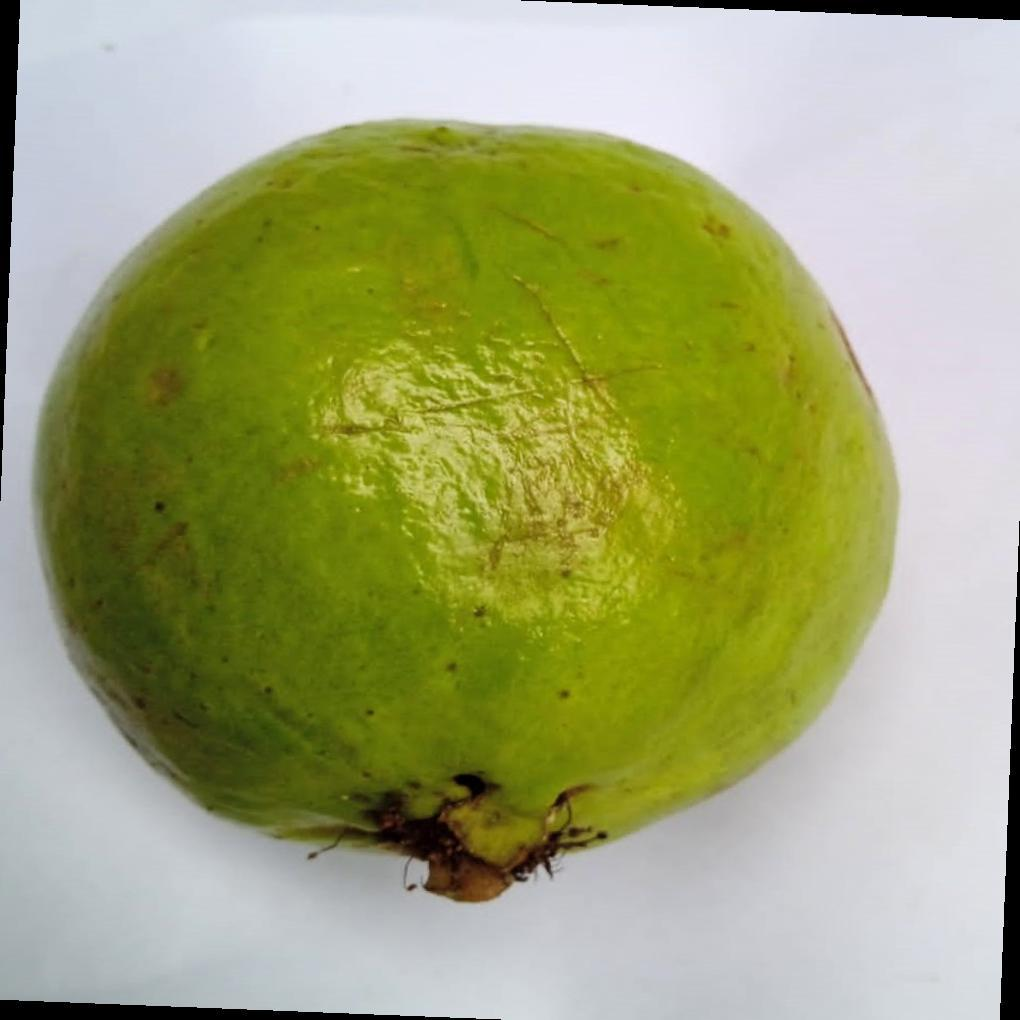FreshGuava: (31, 120, 901, 907)
